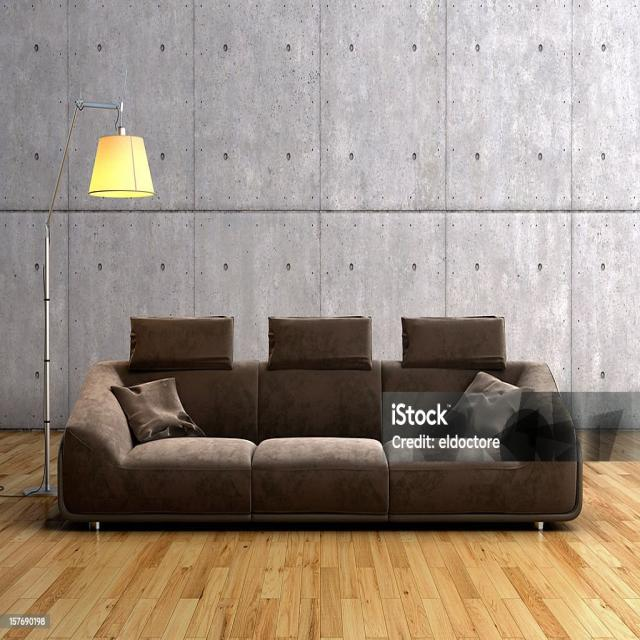back_cushion: (112, 362, 521, 443)
left_arm: (502, 362, 575, 461)
legs: (534, 521, 543, 530), (89, 521, 99, 529)
right_arm: (58, 362, 139, 513)
seat_cushion: (116, 438, 581, 520)
stallion-sofa: (59, 317, 581, 521)
